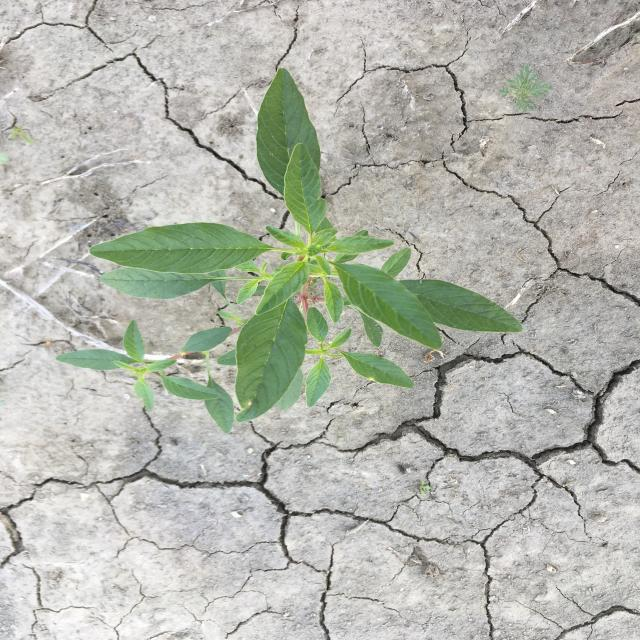Ragweed: (498, 66, 554, 112)
Waterhemp: (53, 66, 527, 434)
